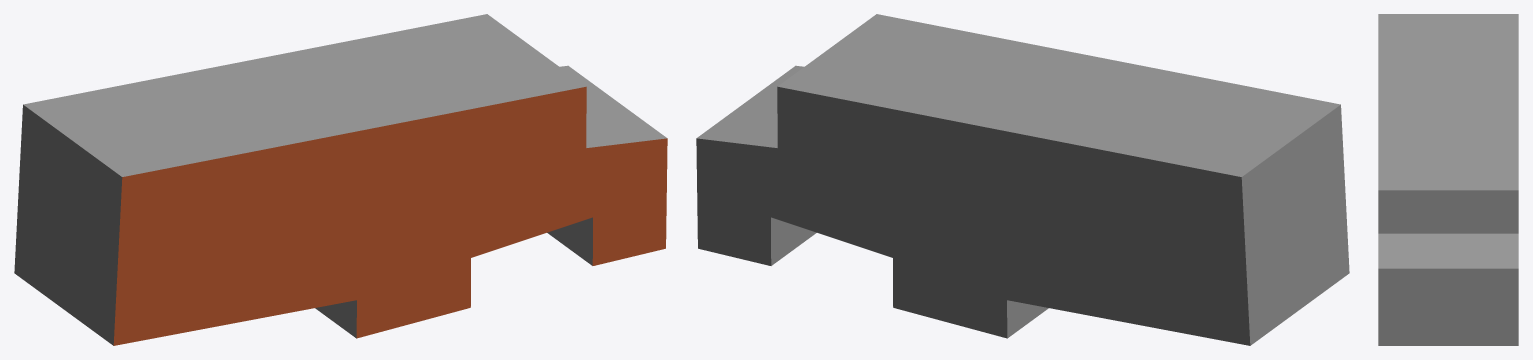
Rendered from construction_1178_assumed_A_Casa_h6m.obj.
3 renders of one model, left to right at view 1: azimuth 30°, elevation 25°; view 2: azimuth 150°, elevation 25°; view 3: azimuth 270°, elevation 25°, orthographic. The views are drawn at different scales.
Visible parts, largest first — view 1: construction_1178_assumed_A_Casa; view 2: construction_1178_assumed_A_Casa; view 3: construction_1178_assumed_A_Casa.
Part boxes in pixels (x1,y1,x2,y2): construction_1178_assumed_A_Casa: [14, 14, 667, 345]; construction_1178_assumed_A_Casa: [696, 14, 1349, 345]; construction_1178_assumed_A_Casa: [1378, 14, 1518, 345].
Bounding box in the file's own units: 19.33 × 7.29 × 6.
